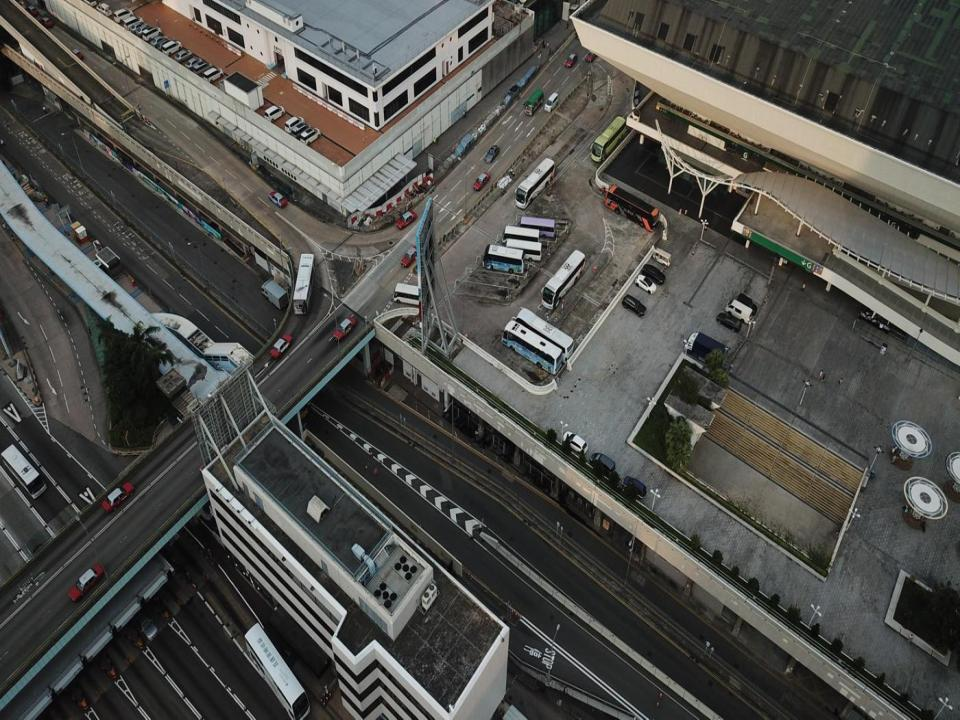bus: (244, 622, 311, 719), (511, 307, 573, 365), (500, 320, 562, 374), (540, 249, 585, 309), (0, 443, 46, 500), (605, 184, 659, 231), (514, 158, 556, 209), (590, 116, 626, 163), (293, 253, 315, 314), (481, 244, 525, 274), (502, 226, 540, 252), (504, 238, 542, 262), (518, 216, 555, 238), (393, 282, 426, 306), (522, 90, 544, 116)
car: (68, 564, 103, 603), (101, 481, 134, 512), (563, 430, 588, 455), (269, 334, 293, 358), (333, 316, 355, 340), (642, 263, 665, 285), (400, 244, 422, 267), (717, 312, 742, 332), (396, 209, 416, 230), (635, 274, 657, 293), (472, 172, 490, 192), (268, 192, 287, 208), (184, 57, 203, 71), (174, 50, 193, 64), (485, 145, 499, 164), (149, 34, 167, 48), (136, 25, 153, 38), (565, 52, 578, 68), (130, 22, 146, 34), (70, 49, 84, 62), (25, 4, 39, 16), (40, 16, 53, 28), (586, 49, 597, 62), (83, 0, 96, 7), (42, 104, 46, 113)
truck: (683, 331, 729, 368), (282, 382, 308, 419), (260, 278, 289, 310)
van: (135, 610, 160, 642), (725, 300, 752, 324), (590, 452, 615, 477), (622, 475, 647, 499), (622, 293, 647, 317), (736, 292, 757, 316), (264, 105, 285, 123), (192, 60, 212, 78), (162, 40, 182, 57), (284, 116, 304, 133), (300, 128, 320, 145), (113, 7, 134, 23), (142, 26, 162, 42), (203, 68, 224, 83), (292, 122, 310, 139), (544, 92, 559, 112), (157, 38, 177, 52), (124, 16, 142, 30), (96, 3, 112, 16)
